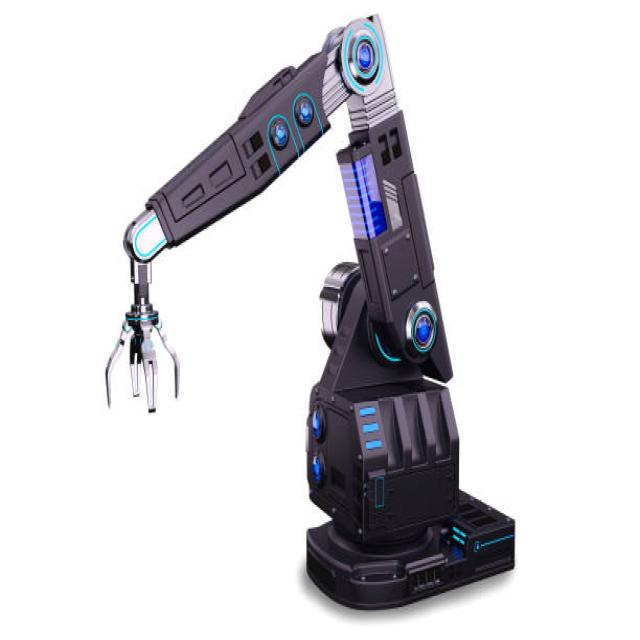Robotic-arm: (88, 15, 528, 622)
